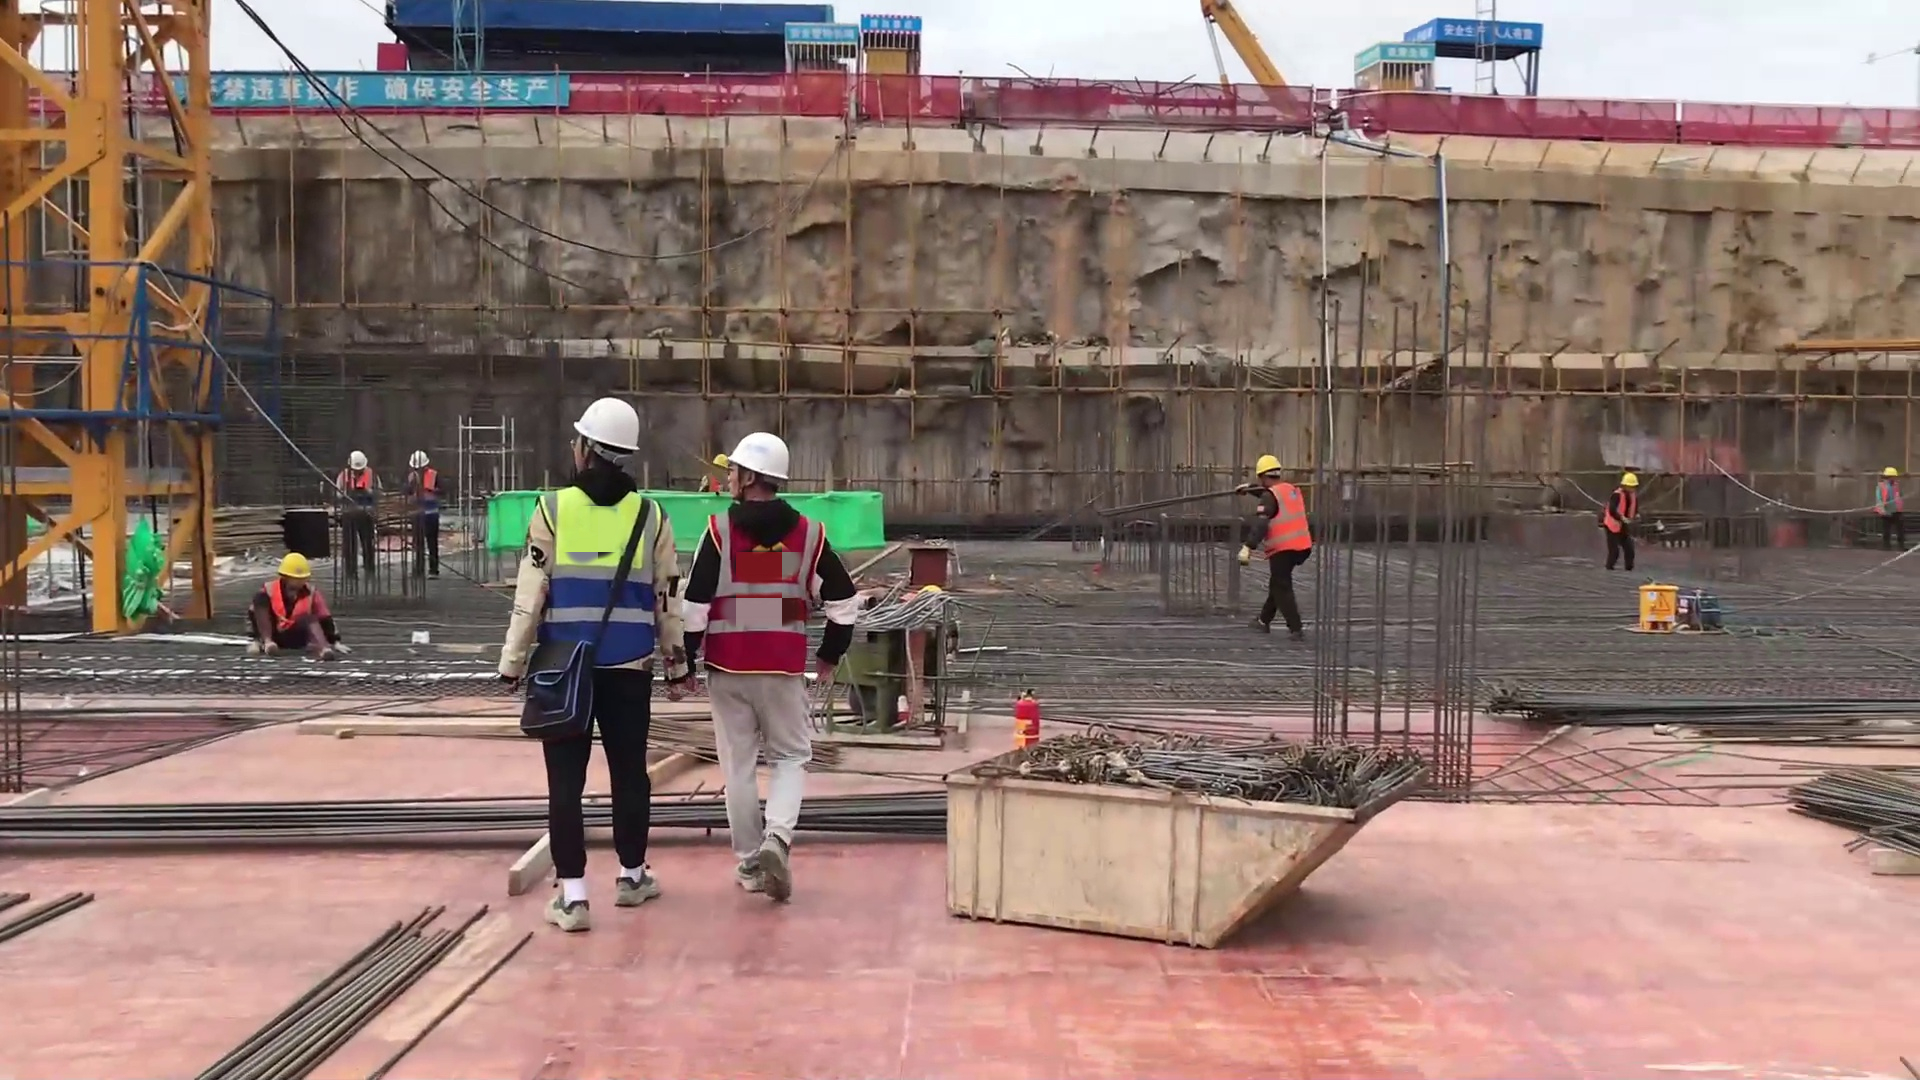helmet: (579, 395, 642, 454), (733, 426, 798, 478), (276, 550, 316, 579), (1253, 452, 1282, 473), (345, 449, 371, 472), (709, 452, 733, 471), (409, 449, 431, 467), (1620, 471, 1641, 488), (1881, 464, 1899, 477)
person: (533, 385, 664, 918), (694, 433, 823, 896), (1246, 441, 1328, 638), (243, 553, 334, 675), (398, 445, 461, 596), (329, 440, 374, 585), (1594, 461, 1649, 573), (1866, 458, 1919, 550)
vest: (534, 503, 663, 680), (703, 518, 820, 666), (1263, 487, 1316, 551), (260, 581, 321, 634), (404, 465, 445, 517), (338, 467, 374, 513), (1602, 488, 1642, 528), (1870, 481, 1904, 511), (701, 474, 735, 491)
